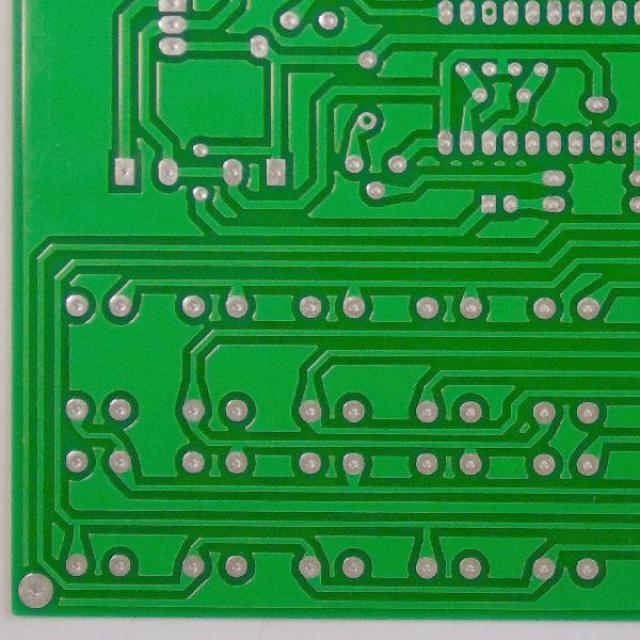Missing_Hole: (352, 111, 380, 131), (479, 0, 499, 25), (610, 130, 627, 157)
